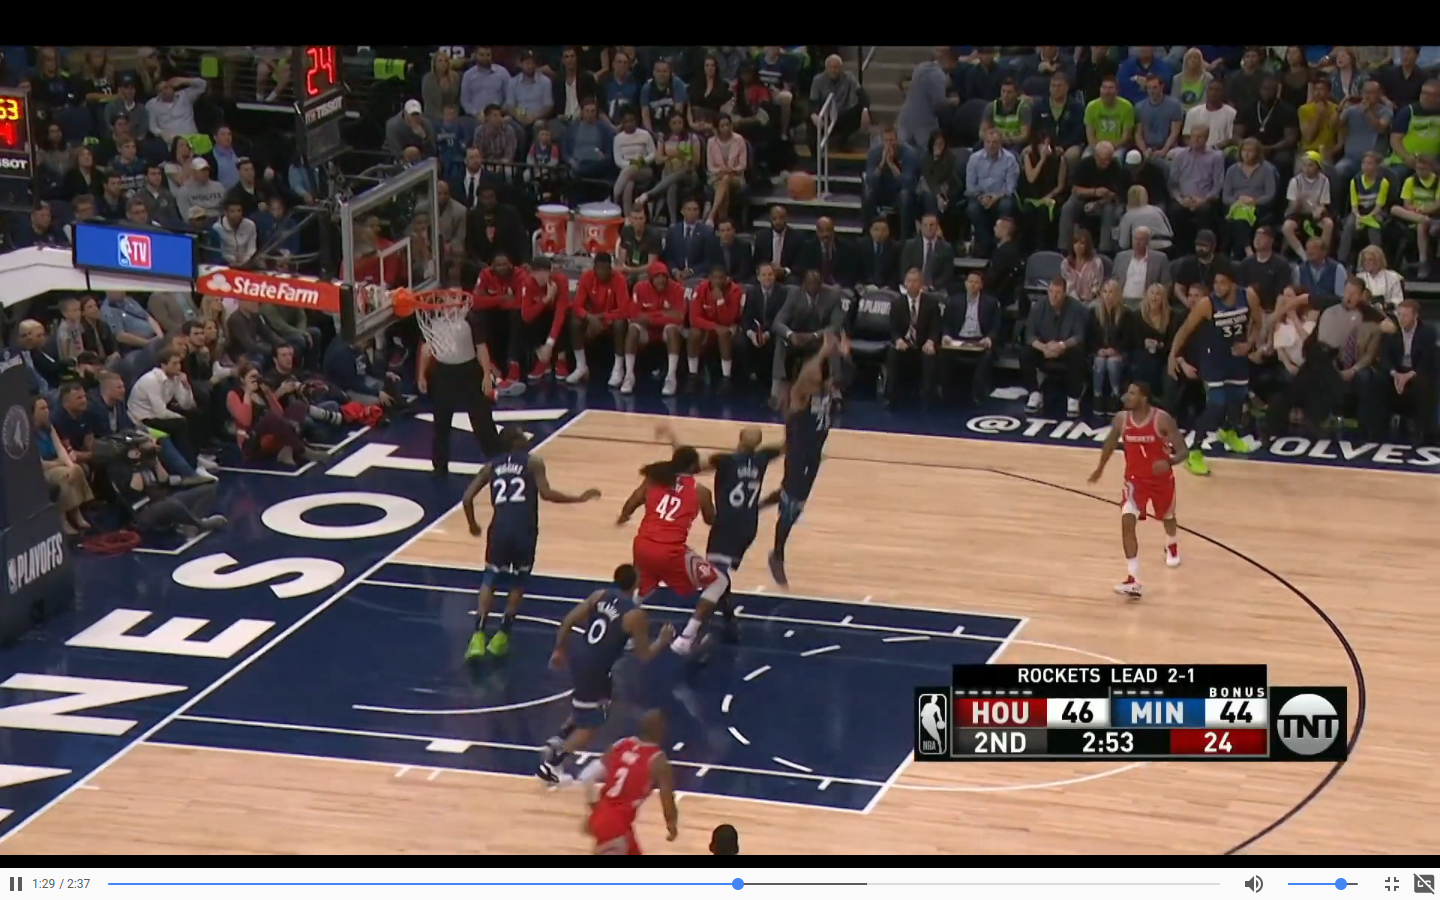ball: (780, 177, 818, 204)
player: (763, 338, 852, 582), (458, 441, 545, 674), (535, 582, 648, 733), (630, 452, 706, 666), (562, 721, 680, 853), (1103, 388, 1174, 605), (701, 425, 778, 570)
referee: (421, 295, 488, 508)
